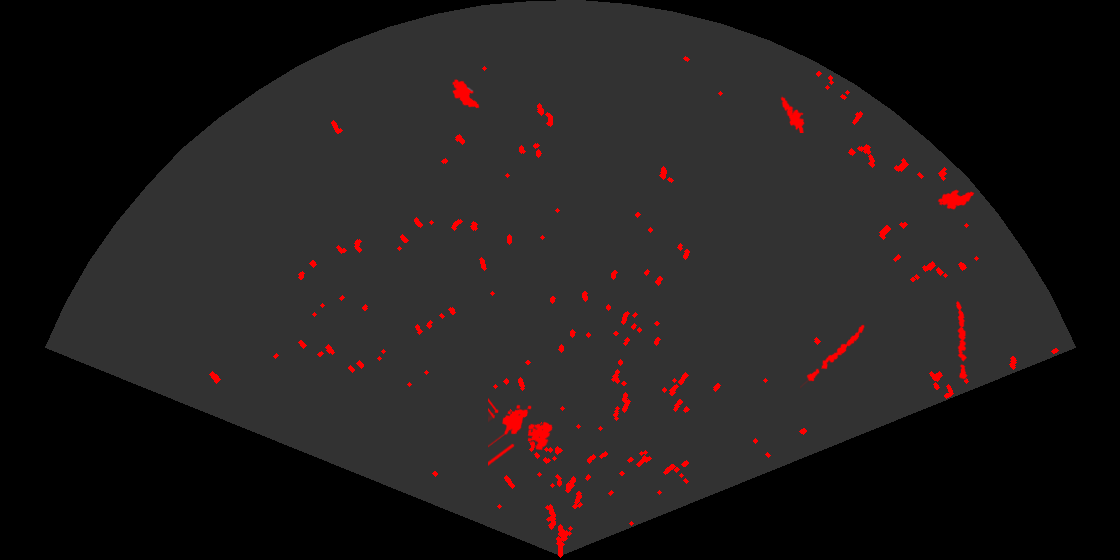AUV: (451, 78, 481, 110), (936, 188, 976, 211)
cage: (488, 396, 554, 467)
chain: (800, 323, 866, 390), (955, 300, 969, 380)
frogman: (779, 94, 806, 133)
